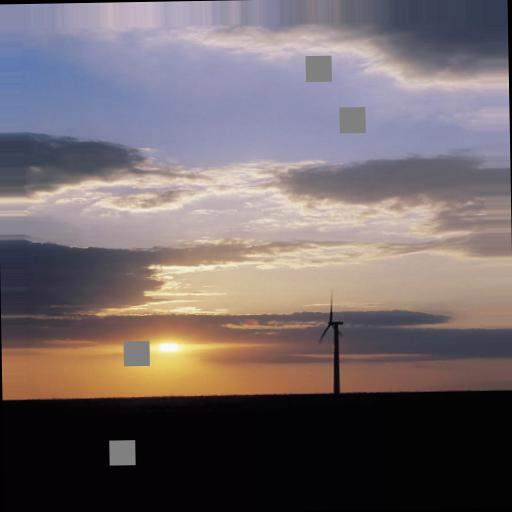wind turbine: (318, 286, 351, 394)
